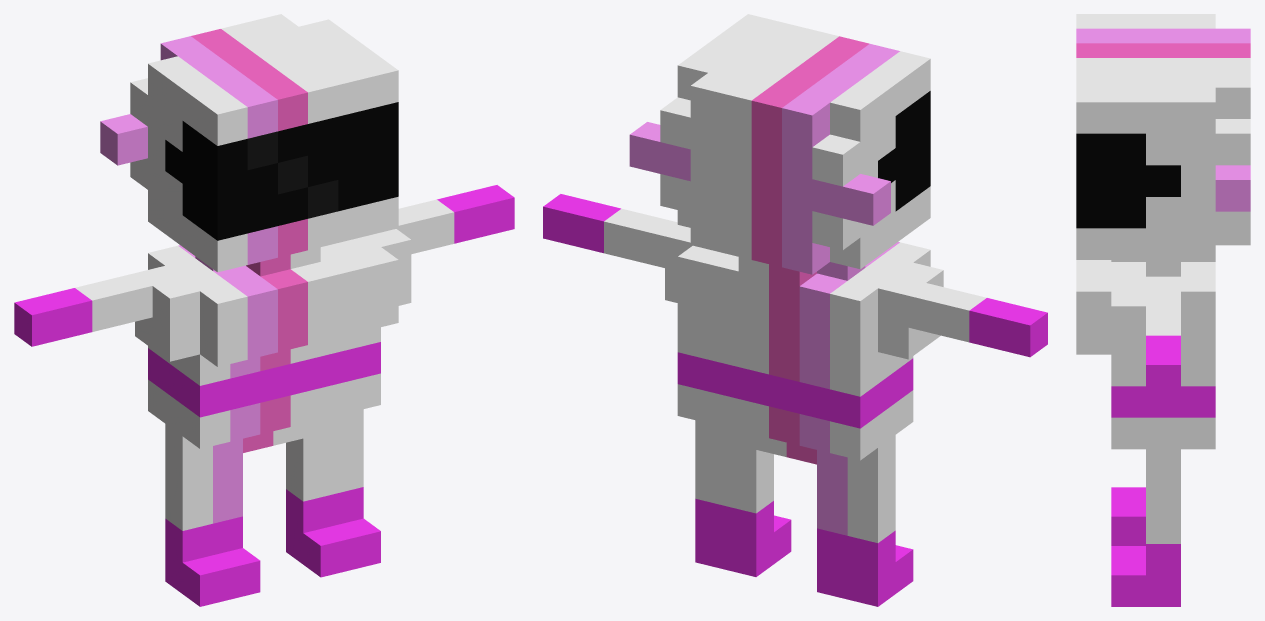
File: Pink_Kart_Driver_Standing.obj
The picture shows the model from 3 angles, left to right: view 1: azimuth 30°, elevation 25°; view 2: azimuth 150°, elevation 25°; view 3: azimuth 270°, elevation 25°; orthographic projection.
Bounding box in the file's own units: 1.6 × 1.6 × 0.5.
1 material, 1 textured.
